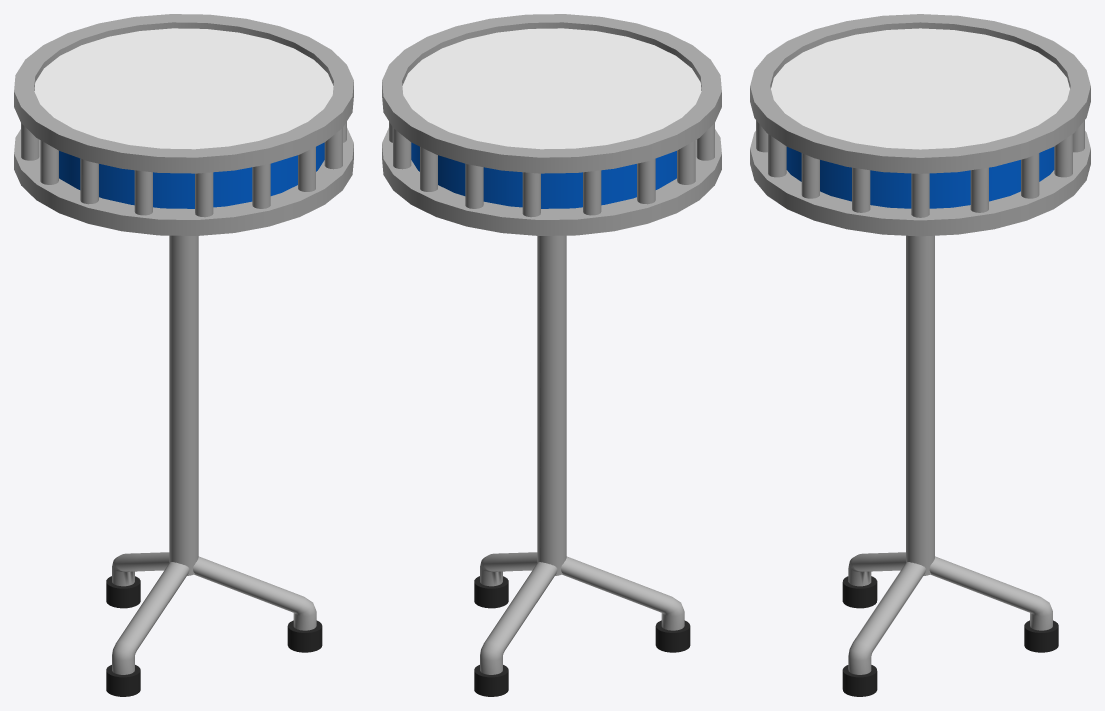
The model's file is Toms.fbx.
3 renders of one model, left to right at view 1: azimuth 30°, elevation 25°; view 2: azimuth 150°, elevation 25°; view 3: azimuth 270°, elevation 25°, orthographic.
Parts seen in each view (by area): view 1: Tom1; view 2: Tom1; view 3: Tom1.
Boxes of the visible parts, box(x1,y1,x2,y2) form: Tom1: box(14, 14, 353, 696); Tom1: box(382, 14, 721, 696); Tom1: box(750, 14, 1090, 696).
Size of the model in its own units: 121 by 219 by 121.
